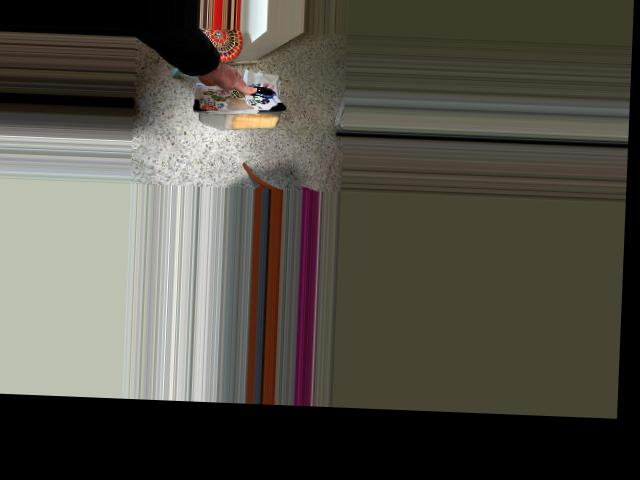cheese: (180, 60, 291, 156)
